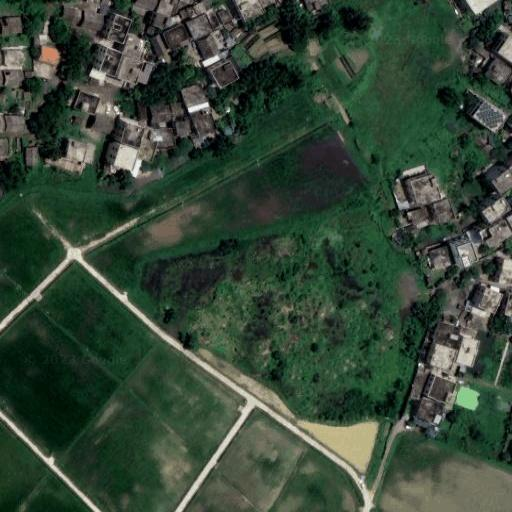building: (235, 14, 289, 64), (471, 99, 508, 135), (411, 396, 447, 429), (188, 104, 219, 138), (411, 174, 443, 206), (115, 53, 145, 87), (455, 334, 483, 369), (457, 304, 491, 332), (481, 219, 512, 249), (428, 377, 460, 406), (65, 140, 99, 165), (181, 82, 210, 111), (161, 23, 191, 51), (135, 127, 158, 163), (429, 343, 458, 371), (121, 32, 150, 60), (211, 61, 240, 89), (435, 321, 463, 349), (73, 89, 102, 116), (480, 197, 510, 223), (235, 0, 267, 22), (79, 6, 105, 33), (186, 13, 213, 39), (478, 286, 503, 314), (429, 244, 454, 272), (107, 15, 131, 44), (427, 365, 465, 383), (100, 47, 124, 75), (487, 60, 512, 86), (114, 145, 138, 172), (491, 168, 512, 197), (196, 34, 220, 59), (435, 199, 457, 224), (406, 207, 433, 227), (60, 3, 82, 27), (38, 45, 63, 66), (408, 370, 427, 397), (124, 122, 146, 145), (149, 34, 169, 58), (1, 48, 27, 66), (458, 242, 478, 265), (151, 105, 172, 126), (31, 61, 55, 79), (204, 8, 222, 32), (138, 60, 154, 86), (157, 130, 176, 151), (499, 259, 512, 287), (6, 113, 25, 132), (456, 323, 479, 338), (151, 12, 169, 31), (304, 0, 329, 13), (176, 120, 193, 139), (499, 37, 512, 60), (26, 147, 40, 168), (6, 69, 23, 86), (134, 0, 158, 11), (219, 8, 234, 25), (201, 54, 219, 68), (131, 4, 149, 17), (0, 137, 12, 156), (192, 2, 207, 17), (170, 100, 183, 117), (168, 13, 182, 27), (216, 48, 232, 60), (503, 295, 512, 316), (138, 97, 147, 118), (186, 7, 197, 20), (261, 0, 277, 8), (203, 0, 213, 11), (25, 71, 36, 80), (100, 5, 111, 14), (180, 9, 189, 19), (225, 36, 234, 45), (0, 94, 6, 104), (38, 34, 48, 40), (94, 0, 101, 5), (509, 17, 512, 25)
